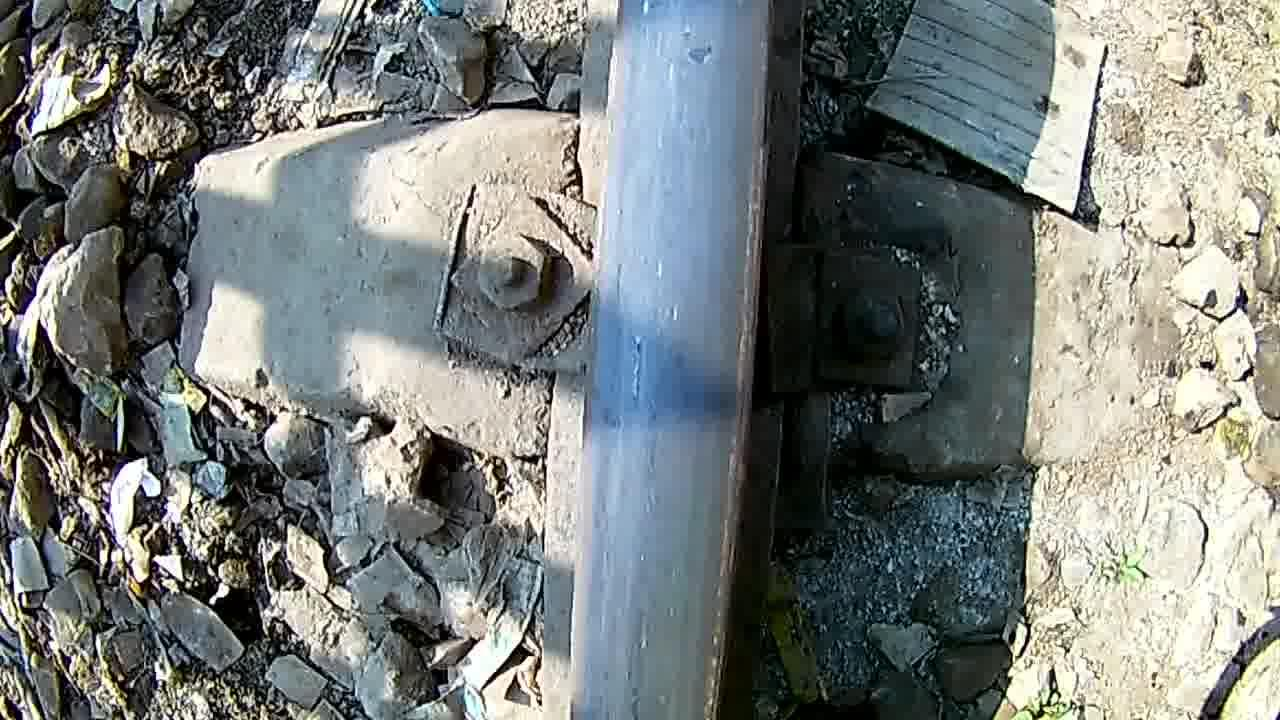crack: (635, 2, 746, 95)
